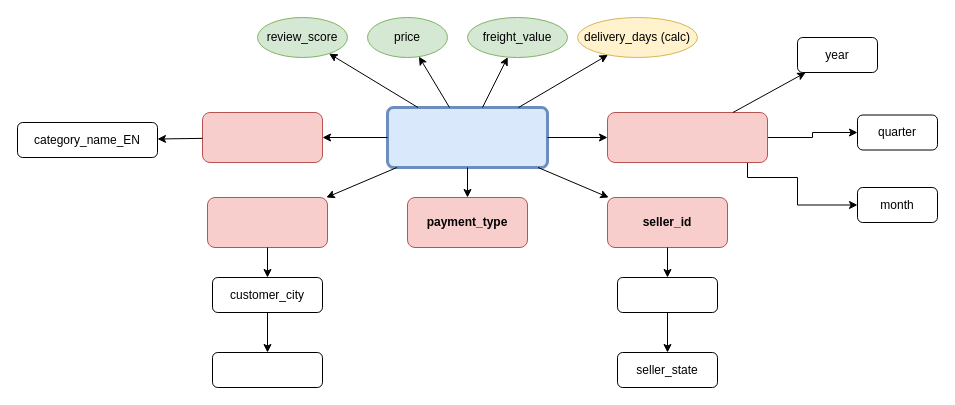
This 955x405 diagram has some shape labels left out. The shapes that lost their labels are listed below. From the top down, each one's centre as x and y in pixels, then its label:
At pixel 262 137: "product_id".
At pixel 467 137: "VENDITA".
At pixel 687 137: "order_purchase_date".
At pixel 267 222: "customer_id".
At pixel 667 294: "seller_city".
At pixel 267 370: "customer_state".
